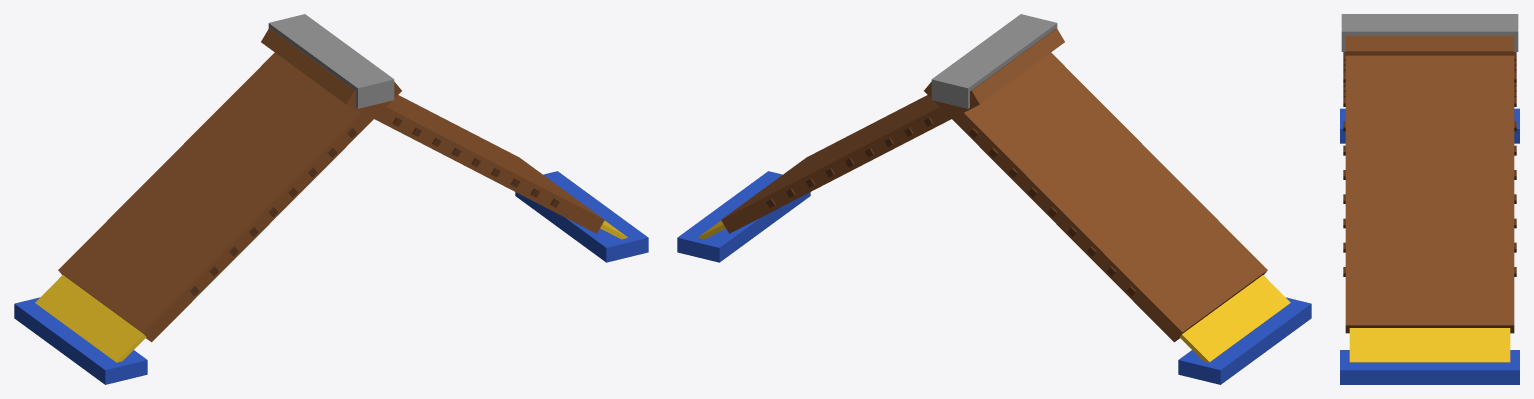
The model's file is dog_a_frame.obj.
3 renders of one model, left to right at view 1: azimuth 30°, elevation 25°; view 2: azimuth 150°, elevation 25°; view 3: azimuth 270°, elevation 25°, orthographic.
Parts seen in each view (by area): view 1: ramp_left, ramp_right, peak_join, contact_left, left_ground_foot, right_ground_foot; view 2: ramp_left, ramp_right, peak_join, contact_left, left_ground_foot, right_ground_foot; view 3: ramp_right, contact_right, right_ground_foot, peak_join, ramp_left, left_ground_foot.
Part boxes in pixels (bbox=[...]): ramp_left: bbox=[58, 52, 401, 342]; ramp_right: bbox=[261, 28, 604, 233]; peak_join: bbox=[268, 14, 394, 108]; contact_left: bbox=[35, 275, 146, 362]; left_ground_foot: bbox=[14, 297, 147, 384]; right_ground_foot: bbox=[515, 171, 648, 262]; ramp_left: bbox=[924, 52, 1267, 342]; ramp_right: bbox=[721, 28, 1064, 233]; peak_join: bbox=[931, 14, 1057, 108]; contact_left: bbox=[1179, 275, 1290, 362]; left_ground_foot: bbox=[1178, 297, 1311, 384]; right_ground_foot: bbox=[677, 171, 810, 262]; ramp_right: bbox=[1345, 55, 1514, 333]; contact_right: bbox=[1349, 328, 1510, 362]; right_ground_foot: bbox=[1340, 350, 1519, 384]; peak_join: bbox=[1341, 14, 1518, 51]; ramp_left: bbox=[1345, 35, 1514, 55]; left_ground_foot: bbox=[1340, 108, 1519, 143].
Size of the model in its own units: 3.86 by 1.59 by 1.12.
